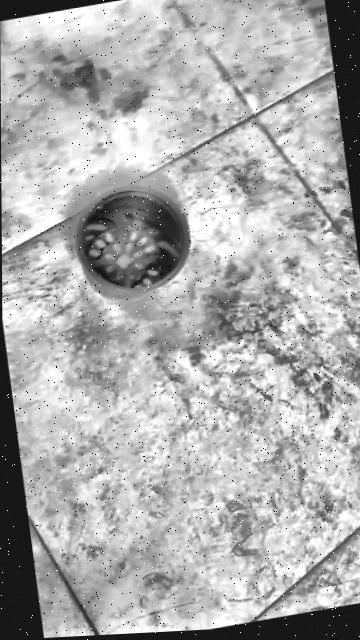pot: (68, 176, 194, 305)
